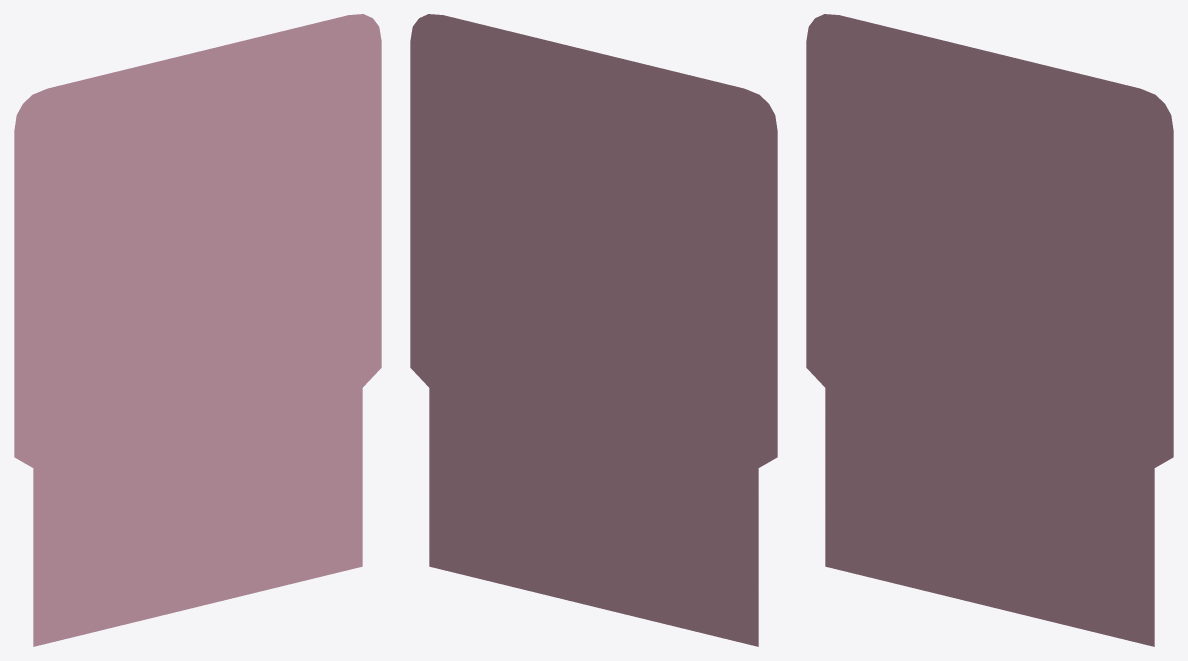
File: portalgradient.fbx
3 renders of one model, left to right at view 1: azimuth 30°, elevation 25°; view 2: azimuth 150°, elevation 25°; view 3: azimuth 330°, elevation 25°, orthographic.
Visible parts, largest first — view 1: Plane.001; view 2: Plane.001; view 3: Plane.001.
Boxes of the visible parts, x1,y1,x2,y2 form: Plane.001: (14,14,381,646); Plane.001: (410,14,777,646); Plane.001: (806,14,1173,646).
Bounding box in the file's own units: 1336 × 1928 × 0.000902.
